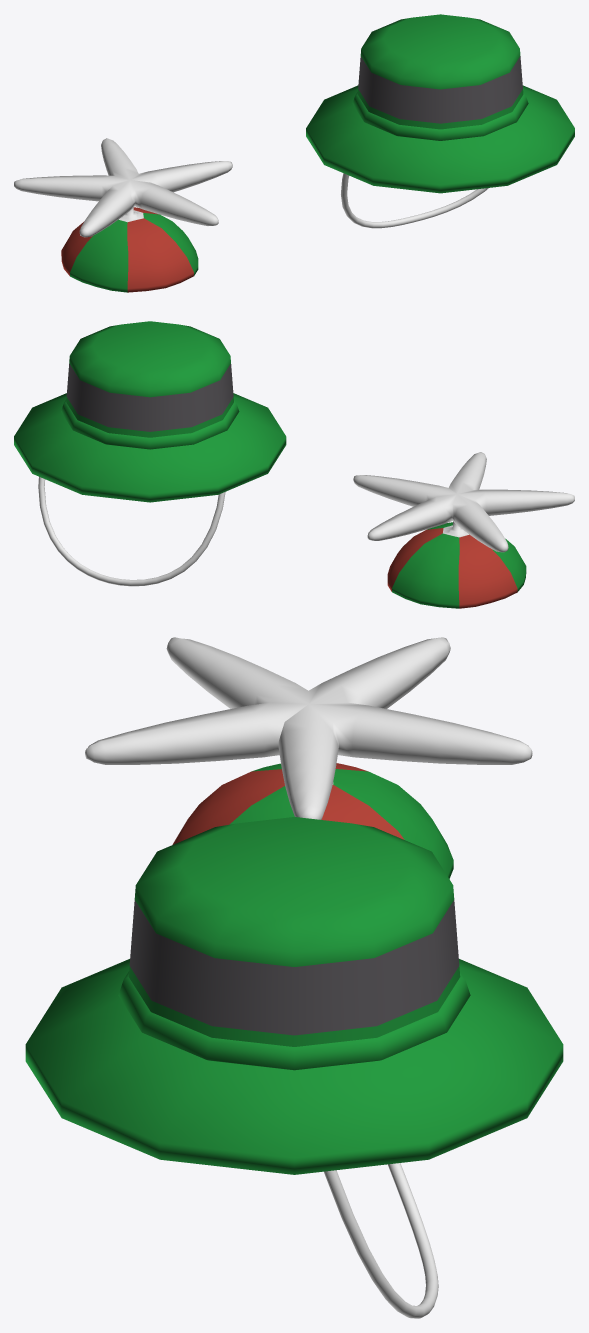
File: hats-1.fbx
3 renders of one model, top to bottom at view 1: azimuth 30°, elevation 25°; view 2: azimuth 150°, elevation 25°; view 3: azimuth 270°, elevation 25°, orthographic. The views are drawn at different scales.
Parts seen in each view (by area): view 1: Hat, Prop Hat Prop, Prop Hat, Hat String; view 2: Hat, Prop Hat, Prop Hat Prop, Hat String; view 3: Hat, Prop Hat Prop, Prop Hat, Hat String.
Part boxes in pixels (x1=…): Hat: x1=306, y1=14, x2=574, y2=193; Prop Hat Prop: x1=14, y1=138, x2=232, y2=237; Prop Hat: x1=61, y1=207, x2=198, y2=292; Hat String: x1=341, y1=173, x2=488, y2=228; Hat: x1=14, y1=321, x2=286, y2=502; Prop Hat: x1=387, y1=521, x2=526, y2=608; Prop Hat Prop: x1=353, y1=452, x2=574, y2=552; Hat String: x1=38, y1=477, x2=225, y2=586; Hat: x1=25, y1=817, x2=563, y2=1174; Prop Hat Prop: x1=85, y1=637, x2=532, y2=819; Prop Hat: x1=172, y1=763, x2=453, y2=878; Hat String: x1=324, y1=1163, x2=438, y2=1318.
Bounding box in the file's own units: 5.51 × 2.19 × 2.53.
